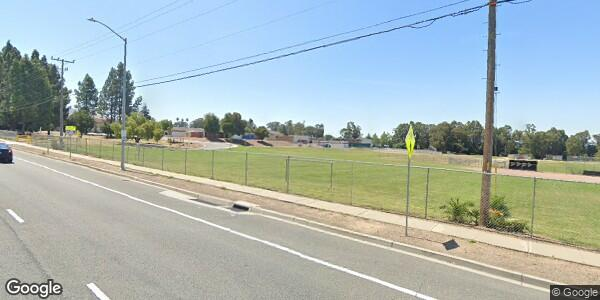Steel_Pole: (85, 16, 128, 171)
Wood_Pole: (475, 1, 503, 231), (48, 54, 77, 150)
